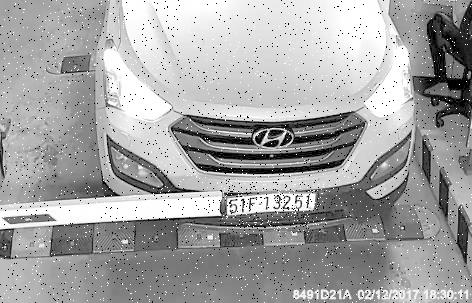License-plate: (220, 182, 329, 233)
